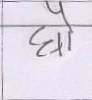ai_matra: (45, 2, 74, 25)
